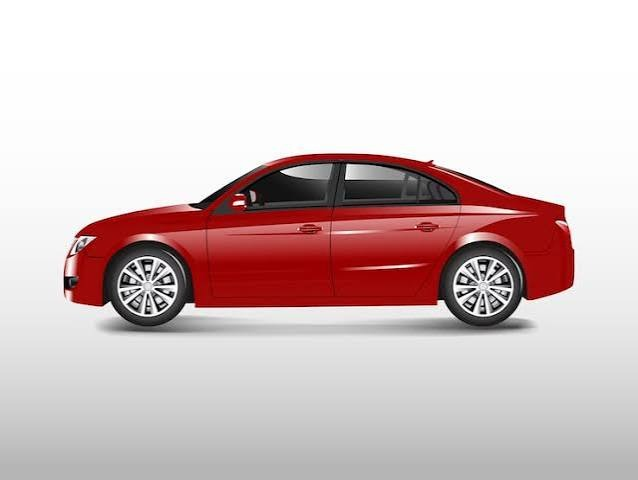car: (63, 158, 579, 327)
